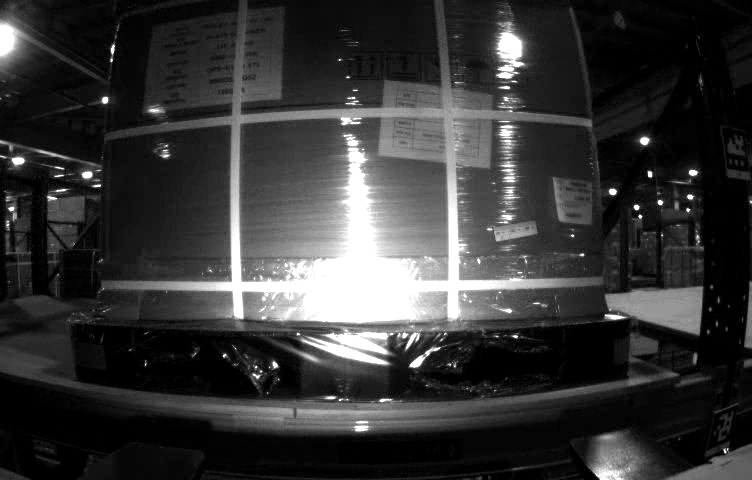True Barcode: (549, 174, 596, 229)
